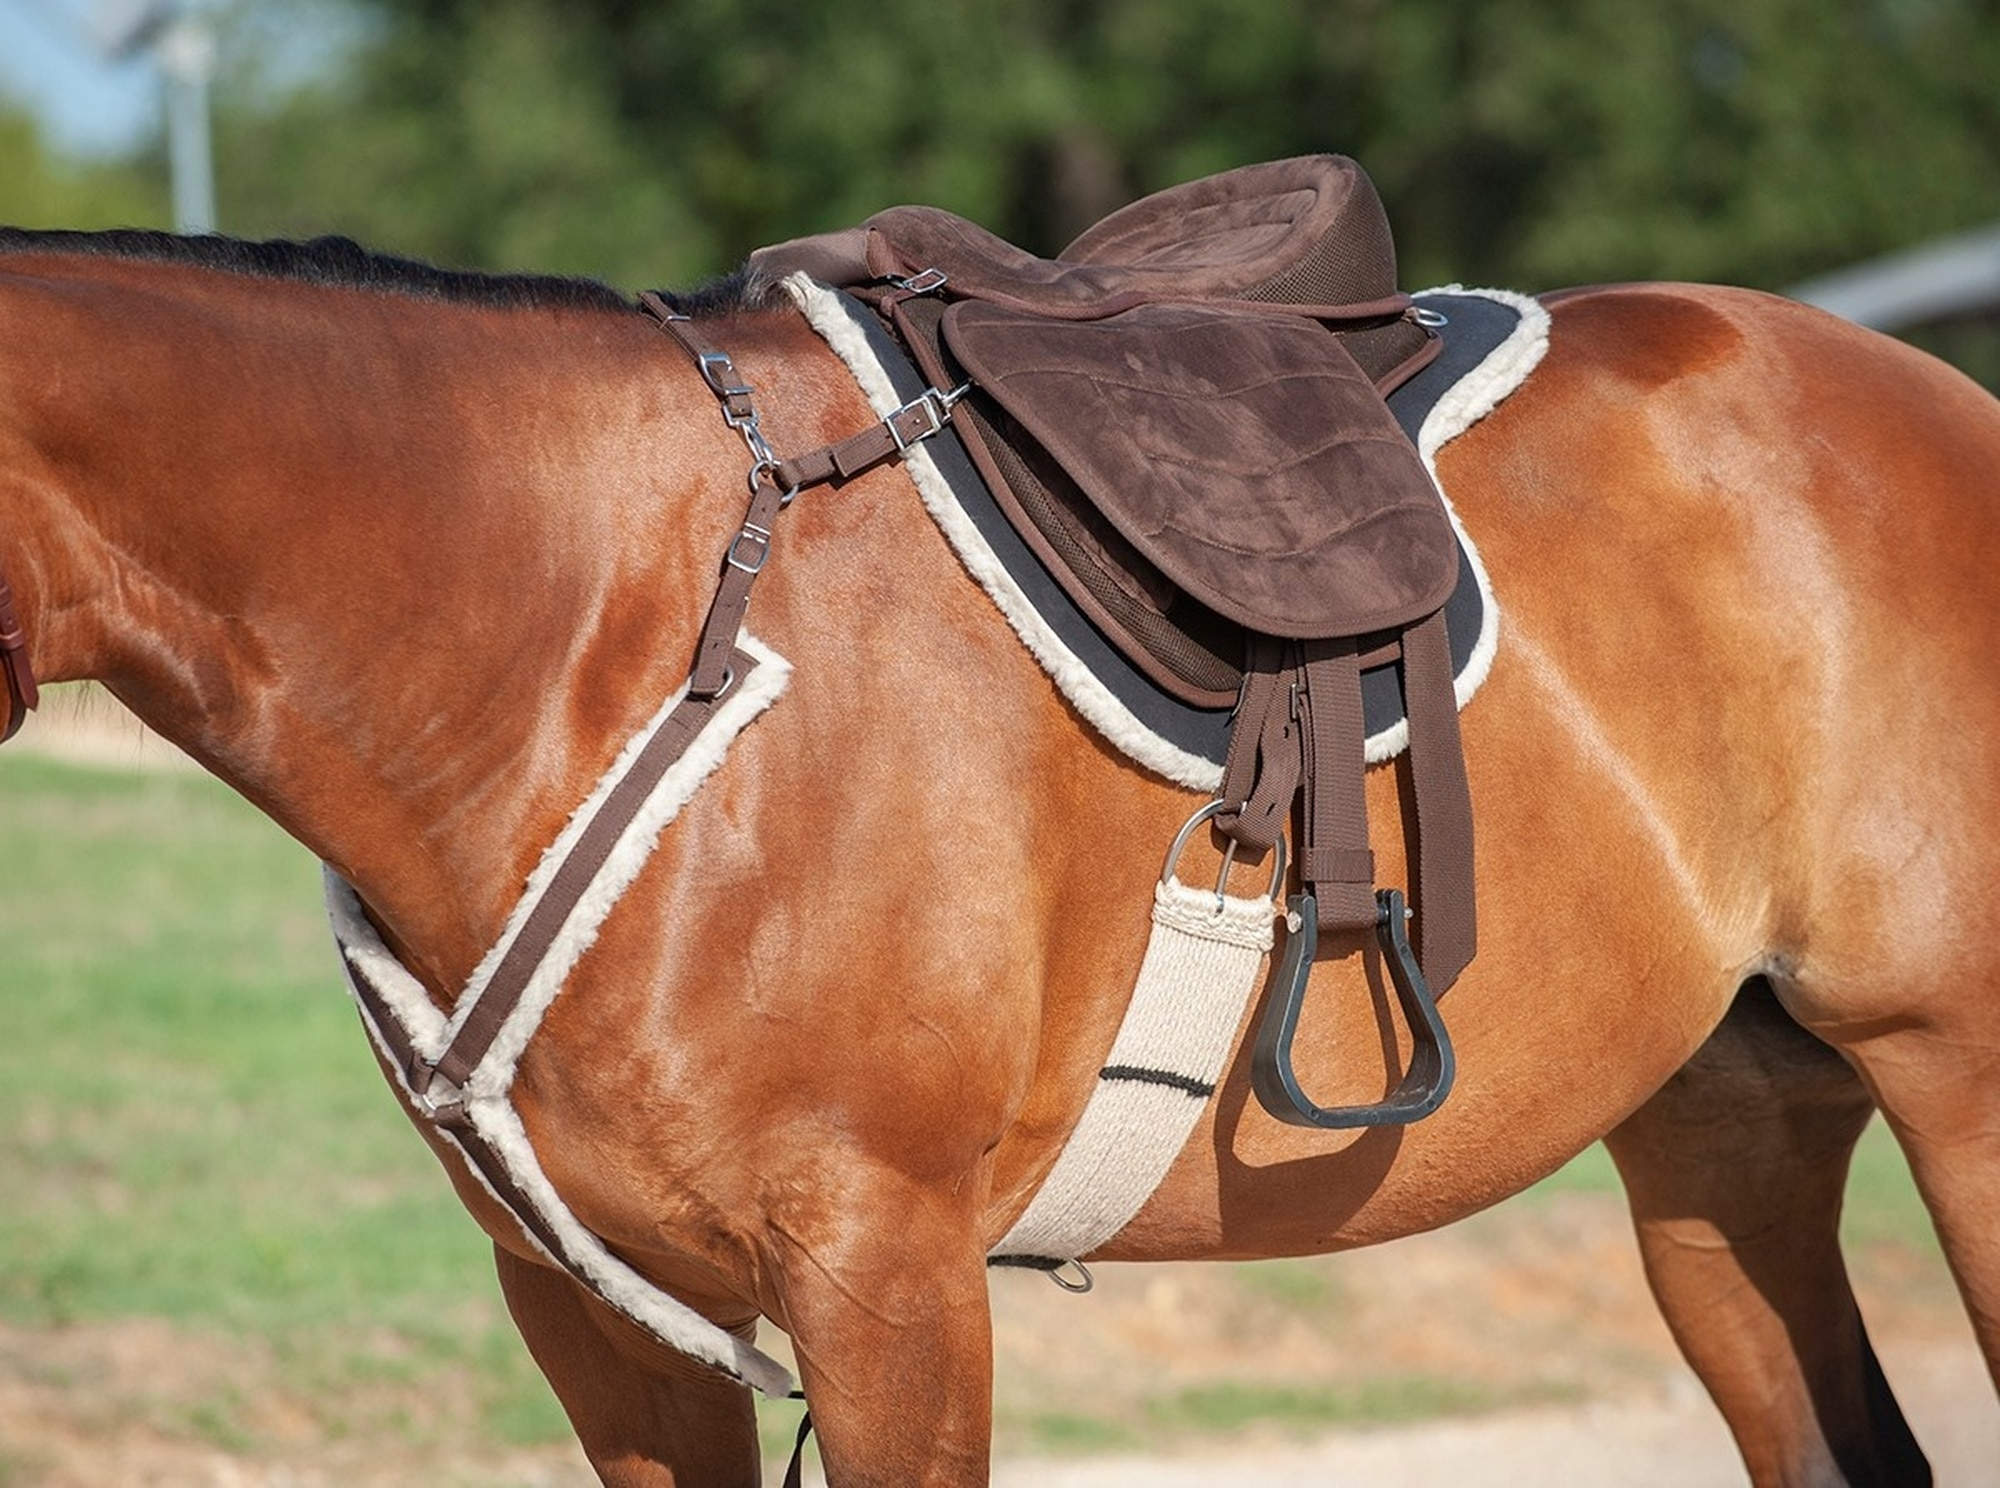saddle: (680, 130, 1652, 1028)
